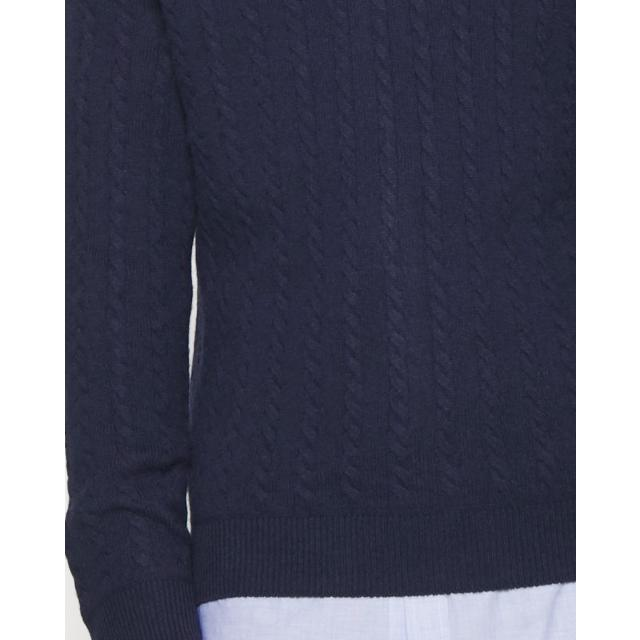wool: (64, 0, 576, 640)
